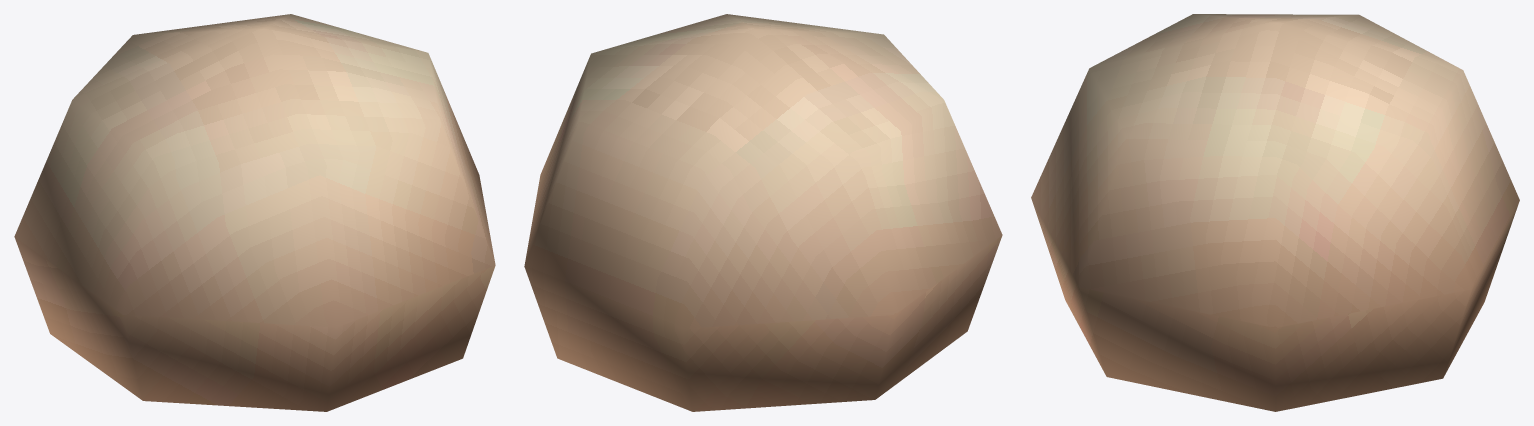
Rendered from Drop_BaoZi_01_SM.FBX.
3 renders of one model, left to right at view 1: azimuth 30°, elevation 25°; view 2: azimuth 150°, elevation 25°; view 3: azimuth 270°, elevation 25°, orthographic.
Parts seen in each view (by area): view 1: Drop_BaoZi_01; view 2: Drop_BaoZi_01; view 3: Drop_BaoZi_01.
Part boxes in pixels (x1,y1,x2,y2): Drop_BaoZi_01: [14, 14, 495, 411]; Drop_BaoZi_01: [524, 14, 1002, 411]; Drop_BaoZi_01: [1031, 14, 1519, 411].
Size of the model in its own units: 34.06 by 27.56 by 34.93.
